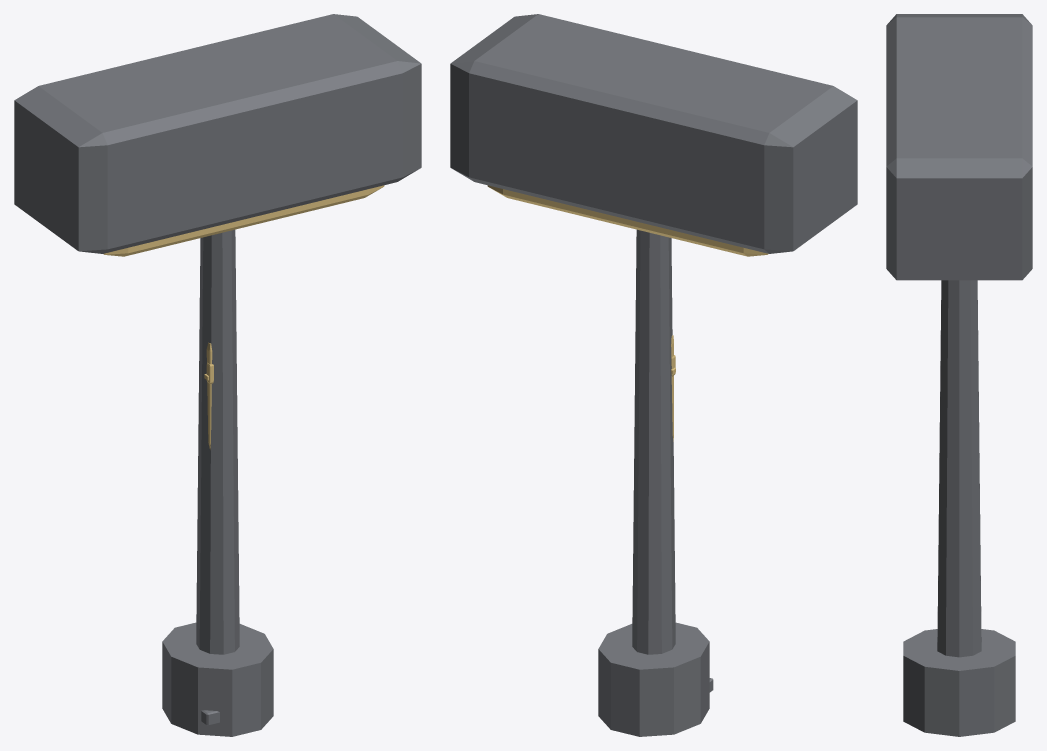
Rendered from b18_backlit_address_pedestal.glb.
3 views of the same model, side by side, from view 1: azimuth 30°, elevation 25°; view 2: azimuth 150°, elevation 25°; view 3: azimuth 270°, elevation 25° (orthographic).
Parts seen in each view (by area): view 1: b18_backlit_address_pedestal; view 2: b18_backlit_address_pedestal; view 3: b18_backlit_address_pedestal.
Part boxes in pixels (x1,y1,x2,y2): b18_backlit_address_pedestal: (14, 14, 421, 736); b18_backlit_address_pedestal: (450, 14, 857, 736); b18_backlit_address_pedestal: (886, 14, 1032, 736).
Bounding box in the file's own units: 0.69 × 1.23 × 0.26.
